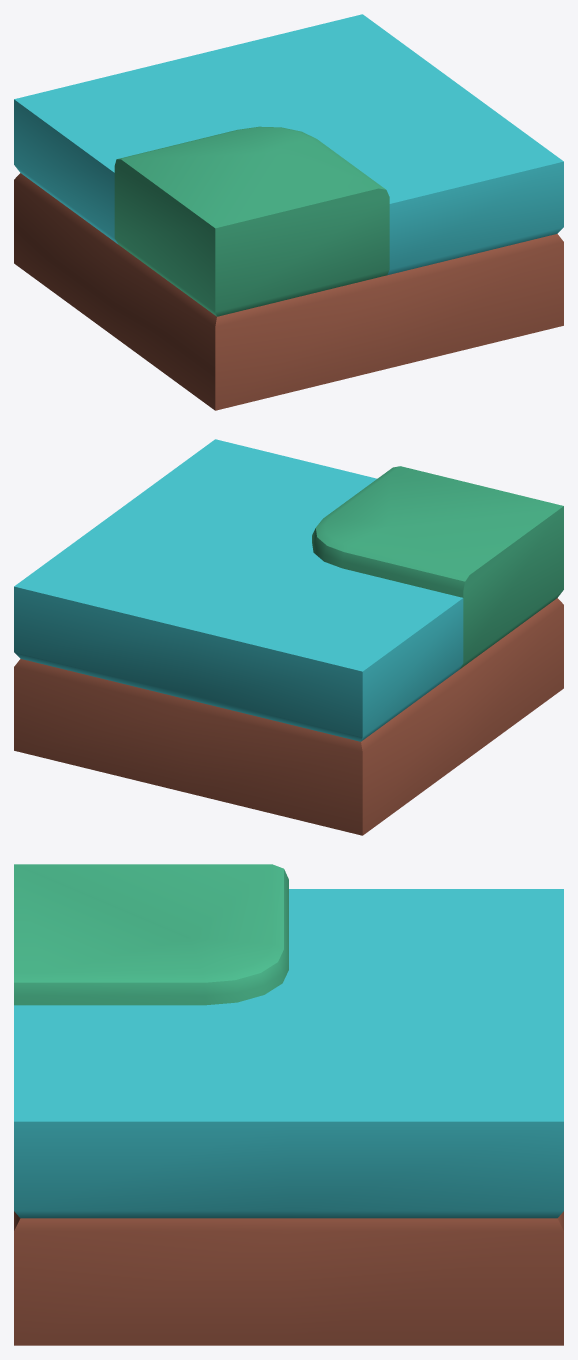
The model's file is kaykit-square-forest-wateroutercorner.glb.
The picture shows the model from 3 angles, top to bottom: view 1: azimuth 30°, elevation 25°; view 2: azimuth 150°, elevation 25°; view 3: azimuth 270°, elevation 25°; orthographic projection. The views are drawn at different scales.
Visible parts, largest first — view 1: square_forest_waterOuterCorner; view 2: square_forest_waterOuterCorner; view 3: square_forest_waterOuterCorner.
Boxes of the visible parts, x1,y1,x2,y2 form: square_forest_waterOuterCorner: [14, 14, 563, 410]; square_forest_waterOuterCorner: [14, 439, 563, 835]; square_forest_waterOuterCorner: [14, 864, 563, 1345].
Size of the model in its own units: 2 by 0.9998 by 2.
